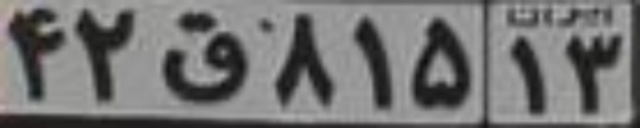1: (350, 14, 393, 108), (503, 35, 544, 114)
2: (74, 7, 135, 104)
3: (564, 34, 624, 114)
4: (7, 7, 68, 102)
5: (409, 18, 470, 109)
8: (275, 13, 335, 107)
ghaf: (159, 11, 244, 103)
